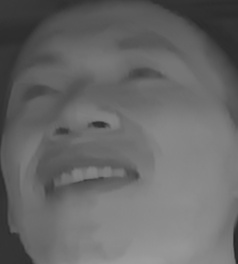eye: (119, 60, 171, 91), (17, 75, 63, 105)
mouth: (32, 153, 140, 203)
